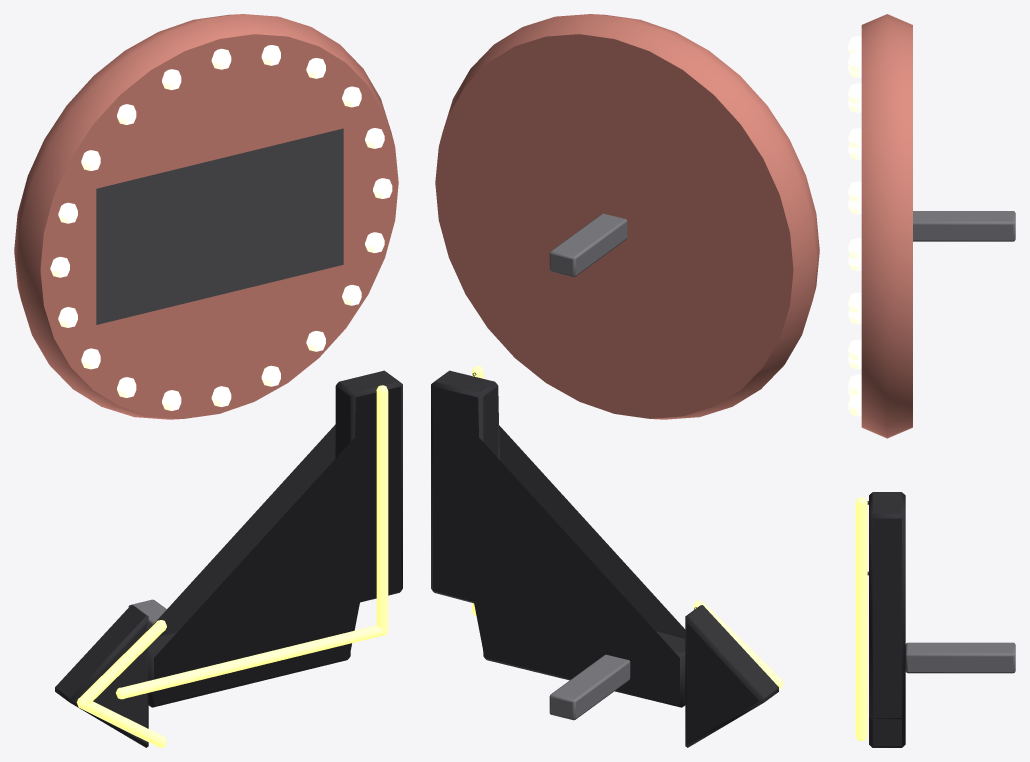
File: neon_googie.glb
3 views of the same model, side by side, from view 1: azimuth 30°, elevation 25°; view 2: azimuth 150°, elevation 25°; view 3: azimuth 270°, elevation 25° (orthographic). The views are drawn at different scales.
Visible parts, largest first — view 1: neon_googie; view 2: neon_googie; view 3: neon_googie.
Part boxes in pixels (x1,y1,x2,y2): neon_googie: (14,14,402,747); neon_googie: (431,14,819,747); neon_googie: (848,14,1015,747).
Bounding box in the file's own units: 1.16 × 2.07 × 0.456.
